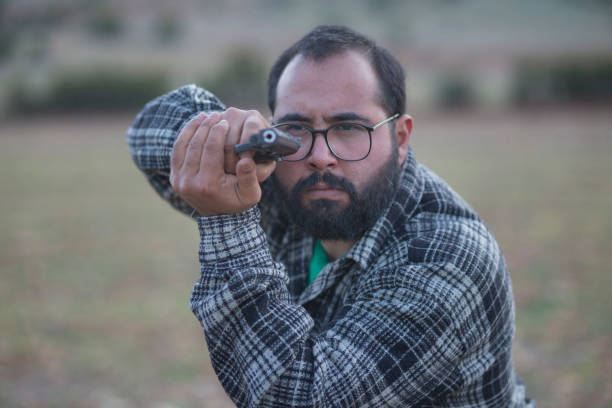gun: (234, 126, 303, 165)
